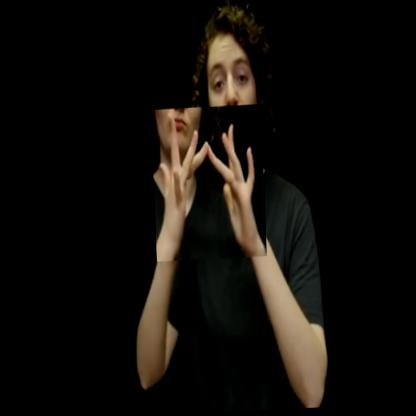Internet: (151, 105, 267, 262)
